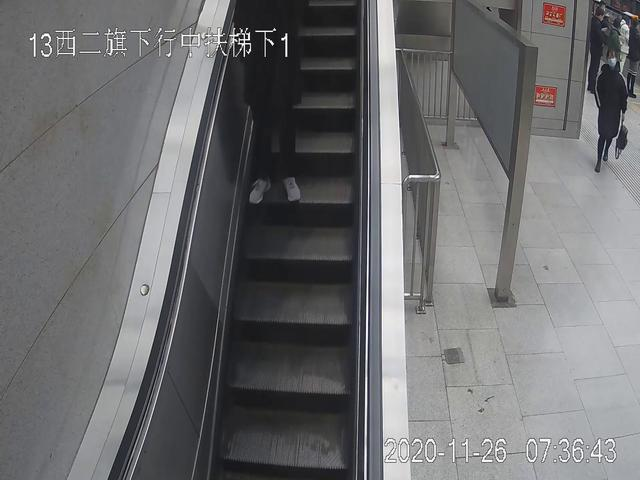person: (231, 1, 306, 204), (596, 46, 627, 175), (588, 4, 609, 92)
